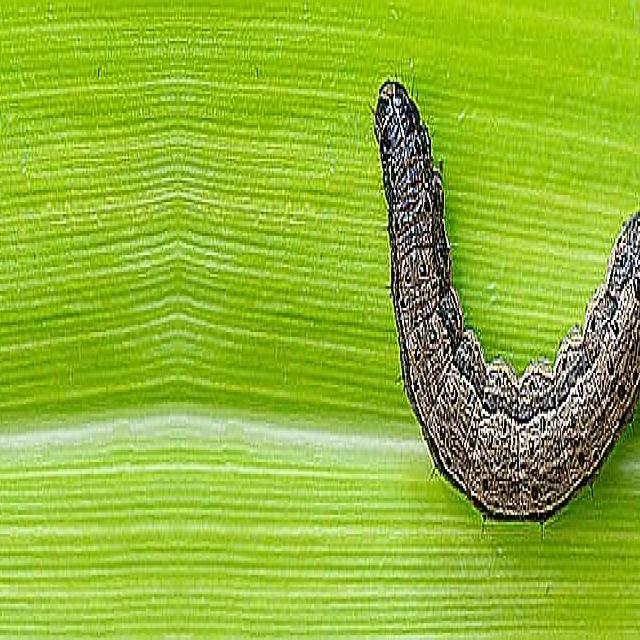Armyworm: (363, 62, 640, 555)
